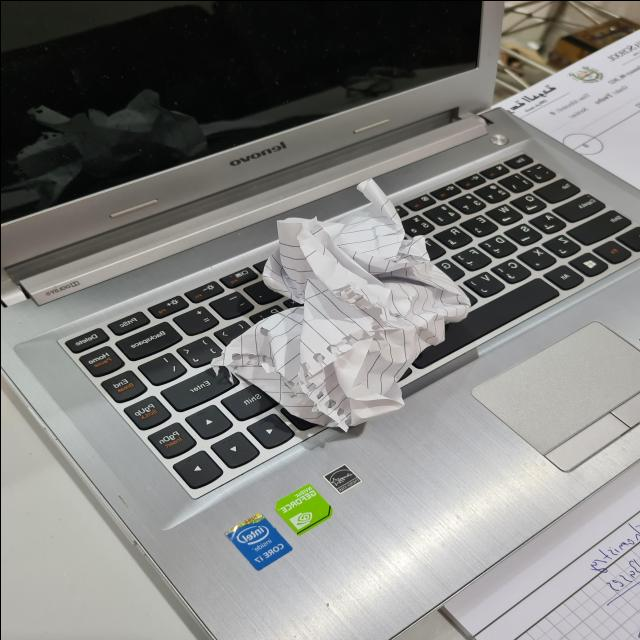kertas: (233, 184, 443, 427)
